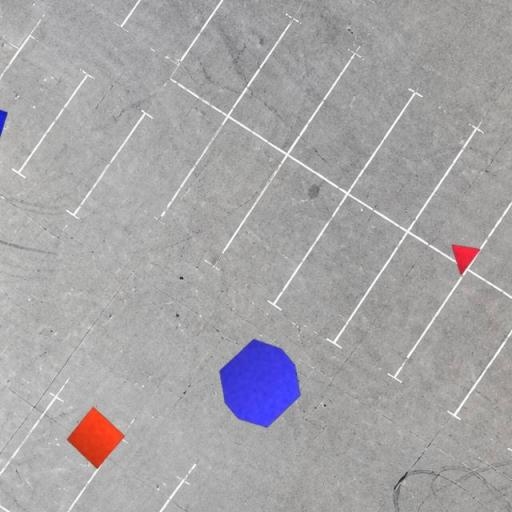RED_SQUARE: (66, 406, 126, 470)
